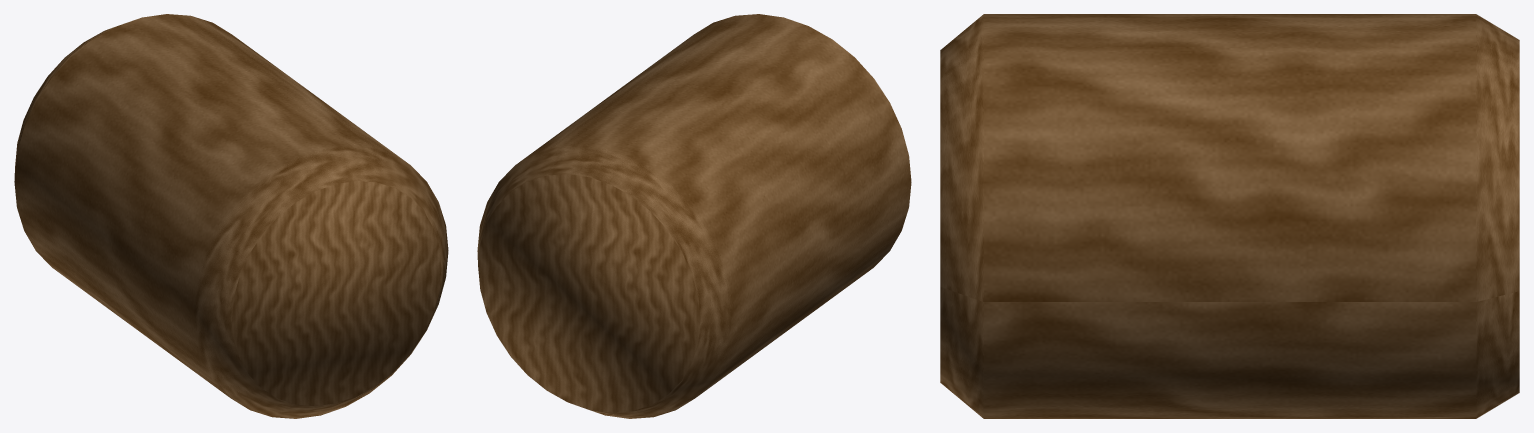
File: powder.obj
3 renders of one model, left to right at view 1: azimuth 30°, elevation 25°; view 2: azimuth 150°, elevation 25°; view 3: azimuth 270°, elevation 25°, orthographic. The views are drawn at different scales.
Visible parts, largest first — view 1: Paper_powder_cartridge; view 2: Paper_powder_cartridge; view 3: Paper_powder_cartridge.
Part boxes in pixels (left/top/right/bottom): Paper_powder_cartridge: left=14, top=14, right=448, bottom=418; Paper_powder_cartridge: left=477, top=14, right=911, bottom=418; Paper_powder_cartridge: left=940, top=14, right=1519, bottom=418.
Size of the model in its own units: 0.175 by 0.175 by 0.25.
